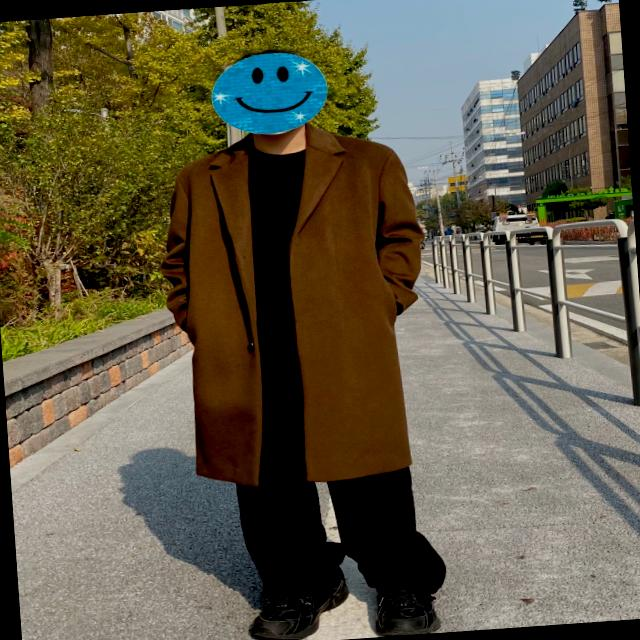coat: (153, 114, 439, 492)
slacks: (223, 294, 444, 606)
